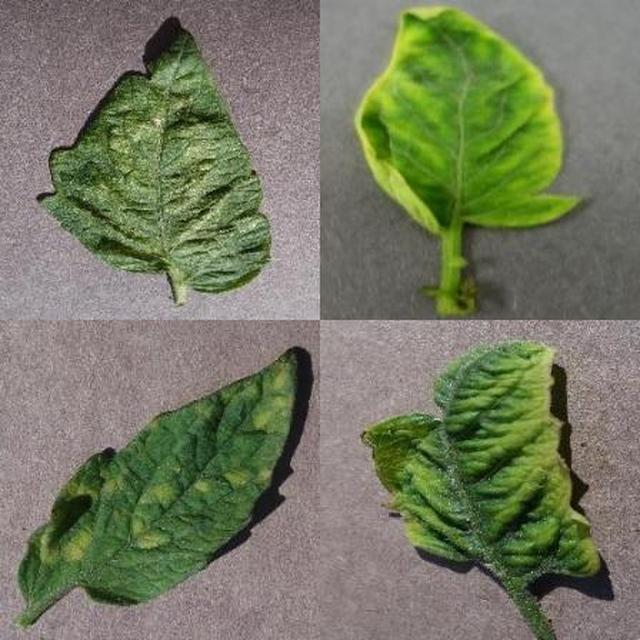Spider Mites Leaf: (223, 172, 640, 640)
